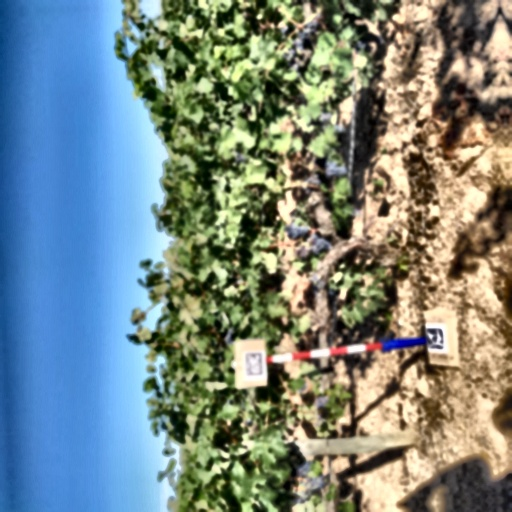QR: (244, 351, 264, 377), (425, 327, 444, 350)
